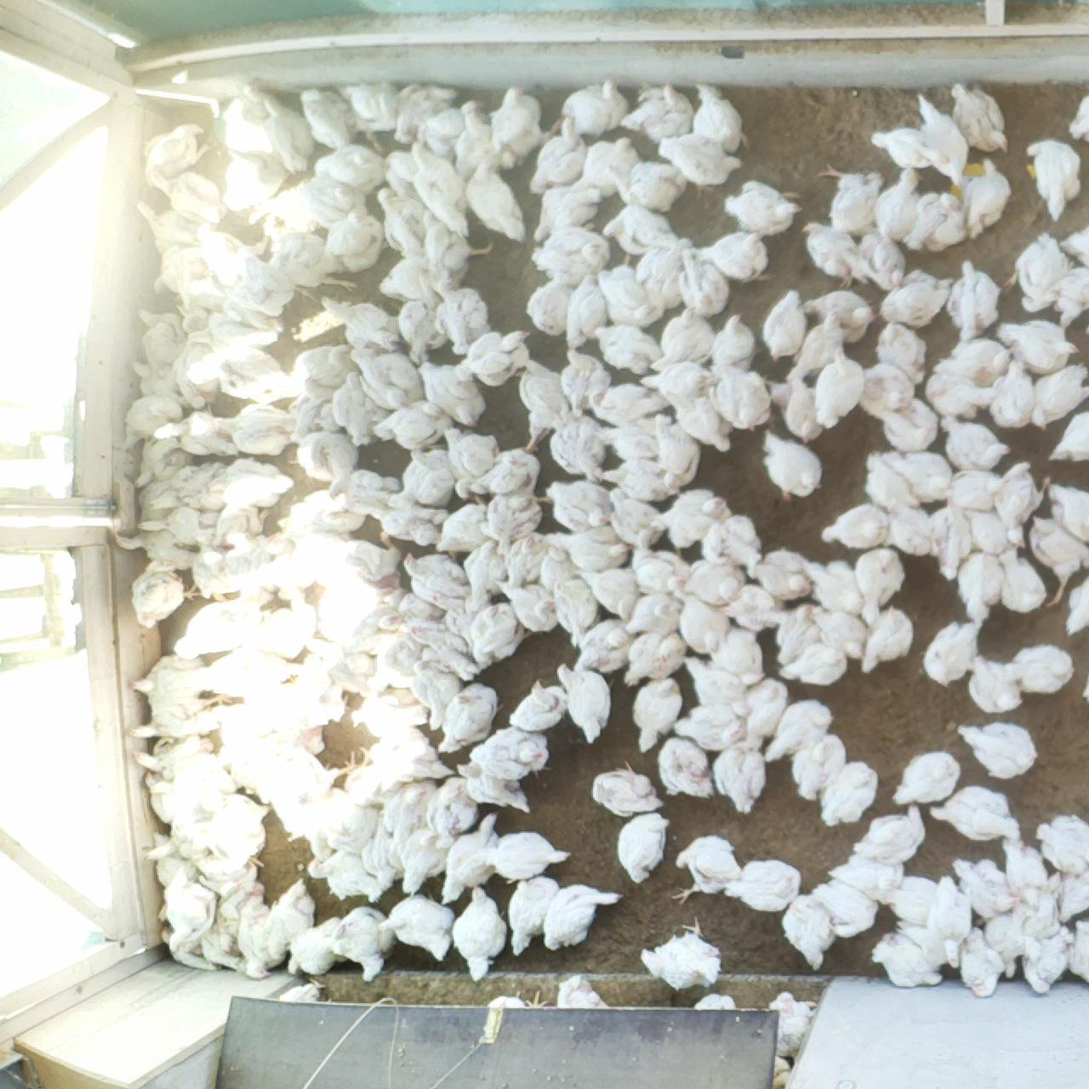chicken: (257, 743, 362, 840), (481, 83, 565, 174), (408, 139, 478, 240), (174, 276, 283, 340), (513, 356, 584, 452), (185, 643, 300, 702), (173, 592, 273, 659), (221, 243, 309, 319), (448, 94, 511, 197), (435, 810, 502, 906), (187, 341, 290, 403), (446, 882, 508, 984), (417, 206, 492, 290), (638, 918, 723, 991), (265, 225, 358, 291), (1028, 512, 1089, 609), (541, 883, 624, 954), (1005, 229, 1075, 312), (930, 784, 1025, 845), (212, 730, 289, 805), (375, 890, 453, 964), (355, 724, 451, 784), (125, 690, 231, 744), (242, 684, 346, 739), (679, 77, 746, 161), (465, 156, 528, 245), (924, 872, 981, 970), (1024, 134, 1088, 221), (306, 786, 379, 862), (315, 206, 387, 283), (656, 483, 733, 554), (506, 874, 568, 962), (914, 91, 970, 187), (194, 793, 276, 858), (144, 118, 216, 191), (329, 905, 396, 983), (710, 728, 768, 818), (656, 130, 745, 188), (551, 77, 629, 143), (147, 165, 230, 227), (258, 876, 316, 964), (185, 306, 283, 358), (469, 827, 573, 876), (633, 237, 700, 313), (722, 176, 804, 238), (530, 113, 592, 195), (133, 741, 227, 795), (211, 402, 298, 460), (996, 463, 1052, 553), (674, 835, 746, 905), (649, 304, 719, 376), (159, 869, 219, 953), (802, 218, 871, 291), (802, 875, 880, 939), (443, 422, 507, 500), (602, 201, 688, 259), (529, 224, 612, 284), (322, 531, 406, 590), (946, 79, 1011, 155), (436, 680, 499, 758), (205, 458, 296, 512), (331, 370, 394, 448), (248, 594, 318, 664), (341, 745, 412, 814), (261, 91, 320, 174), (902, 187, 974, 255), (995, 831, 1053, 915), (946, 259, 1006, 340), (416, 105, 493, 168), (150, 464, 238, 519), (956, 719, 1038, 778), (781, 315, 851, 384), (597, 260, 667, 329), (318, 579, 390, 646), (621, 82, 700, 143), (131, 561, 204, 627), (874, 446, 955, 505), (250, 180, 331, 239), (816, 160, 883, 231), (544, 523, 632, 577), (761, 429, 824, 504), (826, 853, 910, 909), (154, 409, 250, 458), (552, 971, 620, 1040), (876, 269, 958, 326), (359, 812, 418, 891), (307, 845, 386, 904), (965, 157, 1019, 243), (373, 399, 453, 457), (402, 546, 471, 613), (391, 80, 460, 147), (720, 858, 804, 913), (779, 892, 836, 973), (321, 295, 402, 352), (210, 698, 282, 762), (460, 327, 533, 390), (606, 158, 691, 212), (939, 414, 1013, 476), (232, 893, 284, 981), (868, 930, 943, 991), (374, 181, 435, 256), (765, 697, 833, 764), (417, 359, 486, 425), (934, 332, 1018, 386), (612, 811, 670, 889), (223, 526, 284, 600), (998, 316, 1080, 371), (281, 488, 366, 541), (366, 636, 441, 696), (349, 344, 424, 404), (922, 371, 1005, 425), (434, 278, 490, 358), (950, 923, 1008, 1000), (710, 358, 772, 430), (471, 726, 549, 783), (788, 728, 848, 802), (557, 658, 611, 740), (452, 756, 531, 812), (922, 619, 988, 686), (222, 142, 289, 208), (891, 749, 961, 812), (133, 198, 209, 256), (948, 855, 1019, 917), (811, 347, 864, 430), (153, 244, 231, 300), (205, 879, 272, 944), (281, 914, 349, 978), (550, 406, 607, 482), (380, 587, 456, 644), (136, 506, 230, 552), (170, 330, 224, 410), (852, 548, 908, 625), (539, 477, 616, 533), (187, 847, 264, 903), (128, 653, 214, 703), (398, 825, 456, 899), (528, 180, 602, 238), (801, 285, 869, 348), (704, 620, 766, 689), (756, 989, 817, 1059), (290, 373, 351, 443), (1029, 363, 1089, 434), (408, 657, 464, 733), (591, 761, 663, 820), (221, 81, 280, 153), (697, 229, 770, 287), (348, 687, 431, 738), (818, 760, 883, 825), (653, 735, 717, 801), (263, 531, 330, 594), (681, 658, 752, 717), (579, 564, 650, 623), (881, 874, 957, 929), (597, 456, 684, 504), (376, 148, 442, 211), (197, 224, 259, 291), (852, 804, 925, 860), (874, 165, 927, 242), (998, 642, 1075, 695), (407, 626, 484, 679), (397, 273, 450, 350), (560, 275, 613, 352), (664, 390, 732, 450), (552, 575, 607, 649), (926, 500, 975, 583), (982, 902, 1036, 977), (327, 466, 402, 520), (863, 453, 928, 515), (590, 324, 663, 379), (118, 525, 196, 576), (468, 602, 524, 673), (606, 486, 668, 550), (875, 495, 936, 560), (485, 990, 550, 1051), (1019, 921, 1071, 997), (669, 702, 745, 754), (292, 176, 371, 226), (573, 134, 642, 191), (635, 674, 684, 754), (572, 616, 636, 677), (623, 629, 689, 688), (860, 609, 916, 678), (429, 775, 479, 852), (341, 82, 400, 147), (697, 515, 763, 573), (640, 358, 715, 409), (955, 551, 1008, 623), (781, 368, 831, 444), (292, 341, 365, 393), (892, 914, 961, 969), (676, 246, 731, 315), (649, 413, 697, 492), (133, 429, 195, 490), (122, 394, 184, 455), (212, 493, 275, 553), (808, 601, 872, 660), (392, 447, 451, 511), (852, 223, 909, 289), (435, 501, 502, 557), (589, 382, 672, 427), (852, 363, 916, 421), (475, 441, 539, 499), (995, 544, 1048, 614), (872, 396, 939, 451), (380, 501, 455, 550), (964, 654, 1025, 714), (141, 771, 203, 830), (464, 536, 514, 609), (149, 832, 206, 896), (494, 577, 559, 633), (818, 500, 892, 549), (1012, 872, 1063, 943), (869, 125, 949, 170), (183, 540, 241, 602), (775, 640, 848, 689), (274, 688, 347, 737), (406, 445, 460, 511), (597, 414, 671, 462), (801, 558, 862, 616), (535, 542, 587, 610), (559, 348, 611, 416), (479, 490, 547, 542), (716, 583, 791, 630), (737, 677, 788, 746), (378, 255, 447, 306), (757, 288, 805, 361), (295, 430, 361, 483), (156, 924, 222, 977), (680, 558, 749, 608), (523, 278, 581, 337), (299, 87, 356, 147), (630, 543, 691, 599), (674, 592, 729, 654), (684, 990, 737, 1054), (190, 910, 248, 968), (990, 357, 1038, 427), (937, 468, 1004, 518), (292, 636, 347, 696), (315, 143, 390, 187), (385, 779, 438, 841), (1034, 812, 1089, 871), (753, 546, 816, 597), (321, 649, 389, 696), (959, 504, 1019, 557), (876, 315, 924, 381), (124, 358, 187, 407), (622, 590, 688, 636), (502, 529, 548, 595), (441, 603, 496, 658), (510, 678, 566, 732), (134, 470, 184, 529), (774, 601, 820, 664), (706, 315, 755, 374), (137, 307, 185, 366), (1047, 483, 1089, 550), (271, 980, 327, 1029), (1049, 263, 1089, 331), (740, 1046, 799, 1089), (1053, 571, 1089, 637), (1046, 411, 1089, 466), (1049, 866, 1089, 925), (1062, 914, 1089, 985), (1058, 222, 1089, 267), (1069, 92, 1089, 144)
